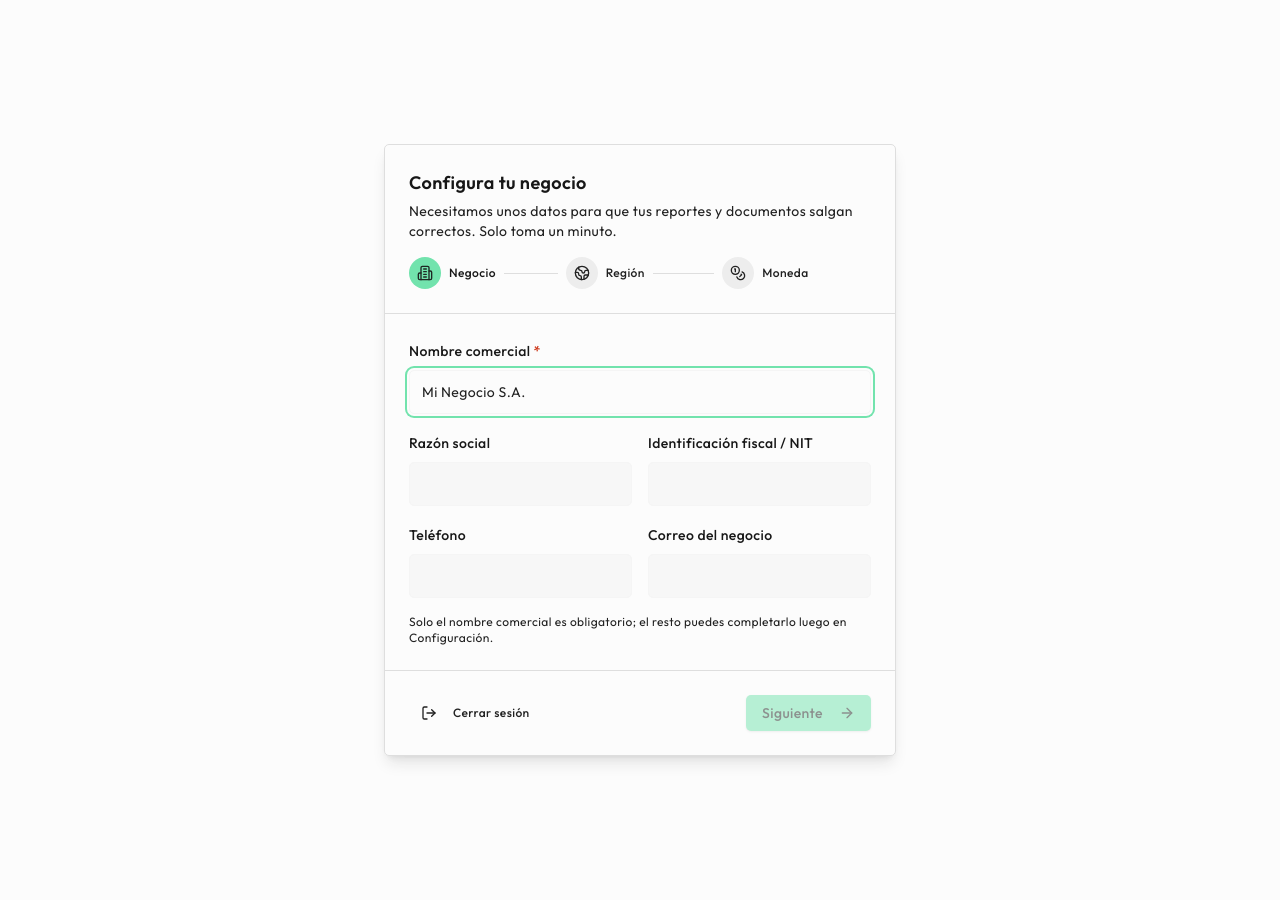
OnboardingWizard › el botón Siguiente está deshabilitado hasta escribir el nombre comercial
Expected: the button "Siguiente" is disabled, [746,695,871,731]
Type "Acme" into the field with placeholder "Mi Negocio S.A.". click: (640, 392)
box: [409,370,871,414]
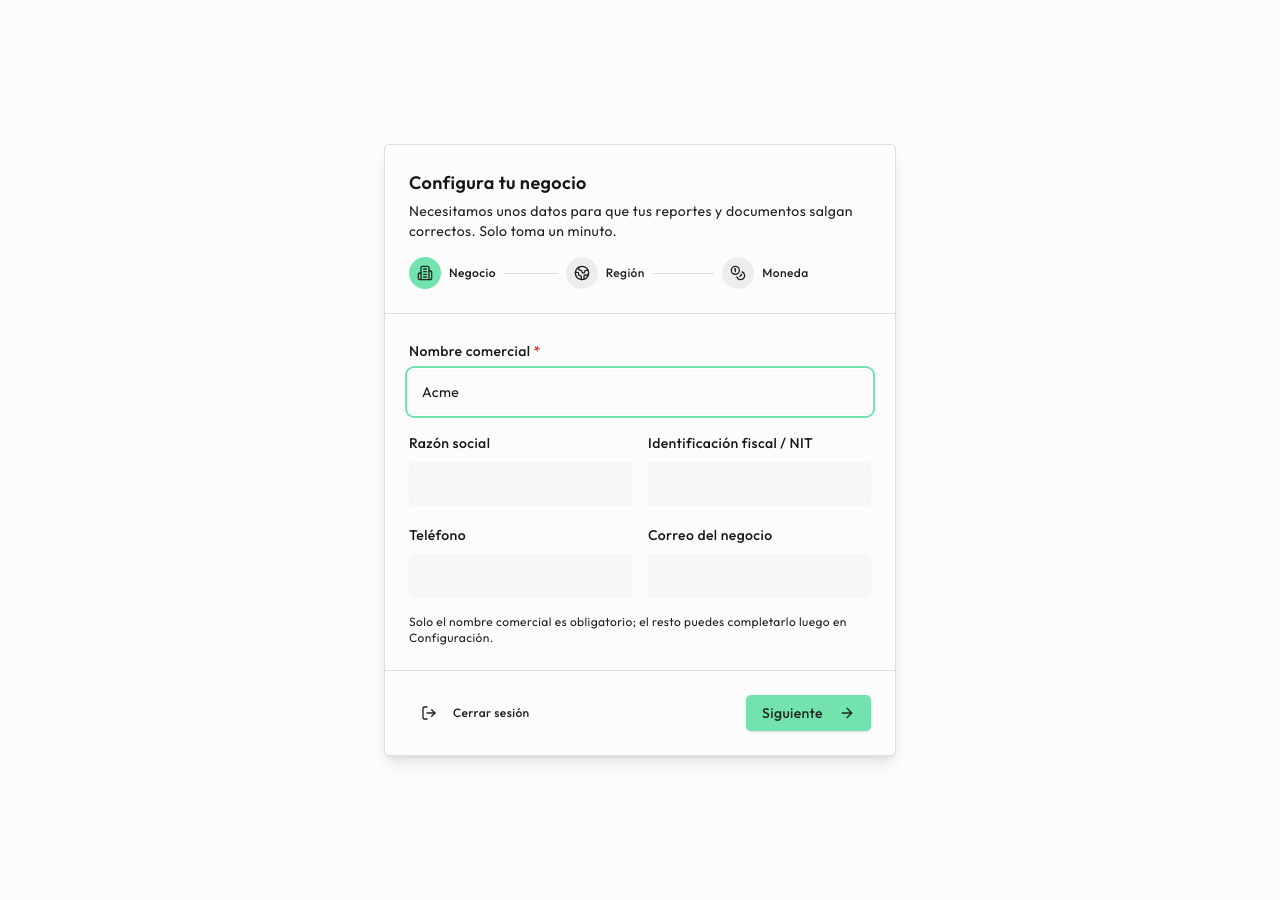
Result: the button "Siguiente" is enabled at [746,695,871,731]
